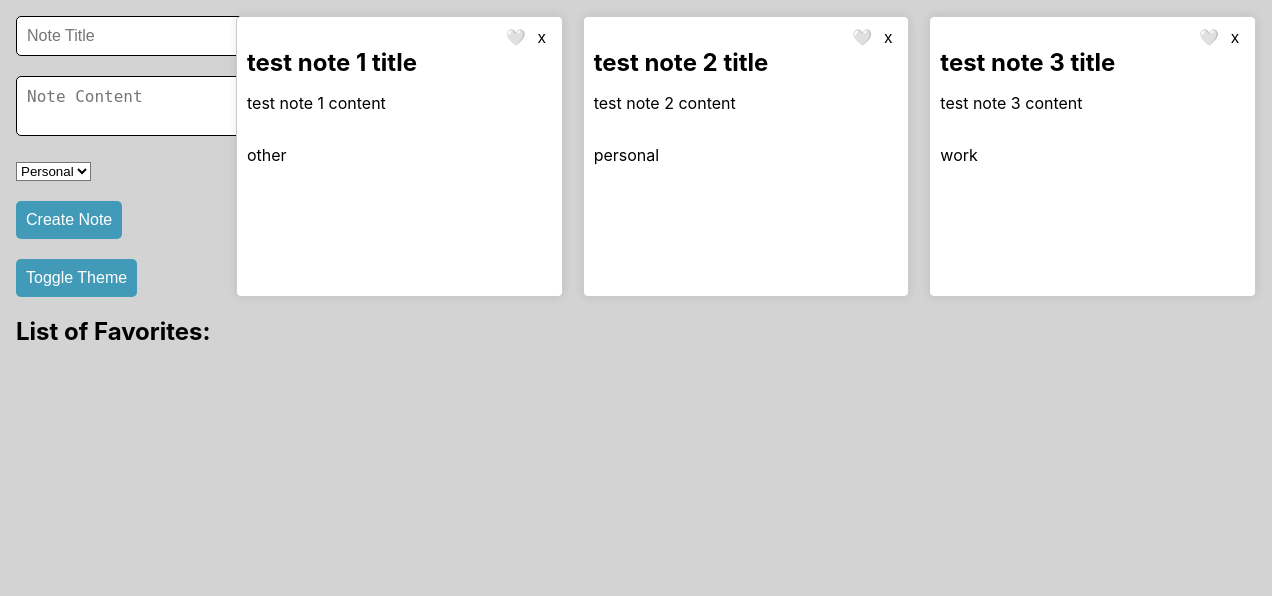
Test: Create and Read StickyNote › creates a new note
Type "New Note" into the field with placeholder "Note Title" at (130, 36), box [16,16,245,56]
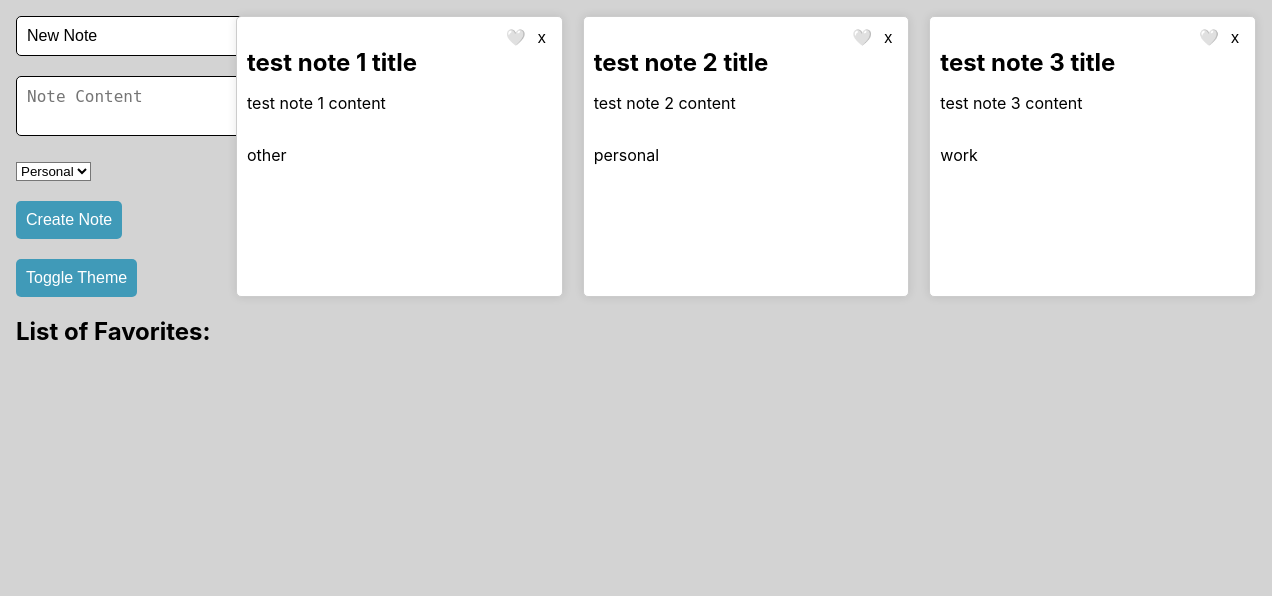
Type "Note content" into the text box with placeholder "Note Content" at (134, 106), box [16,76,253,136]
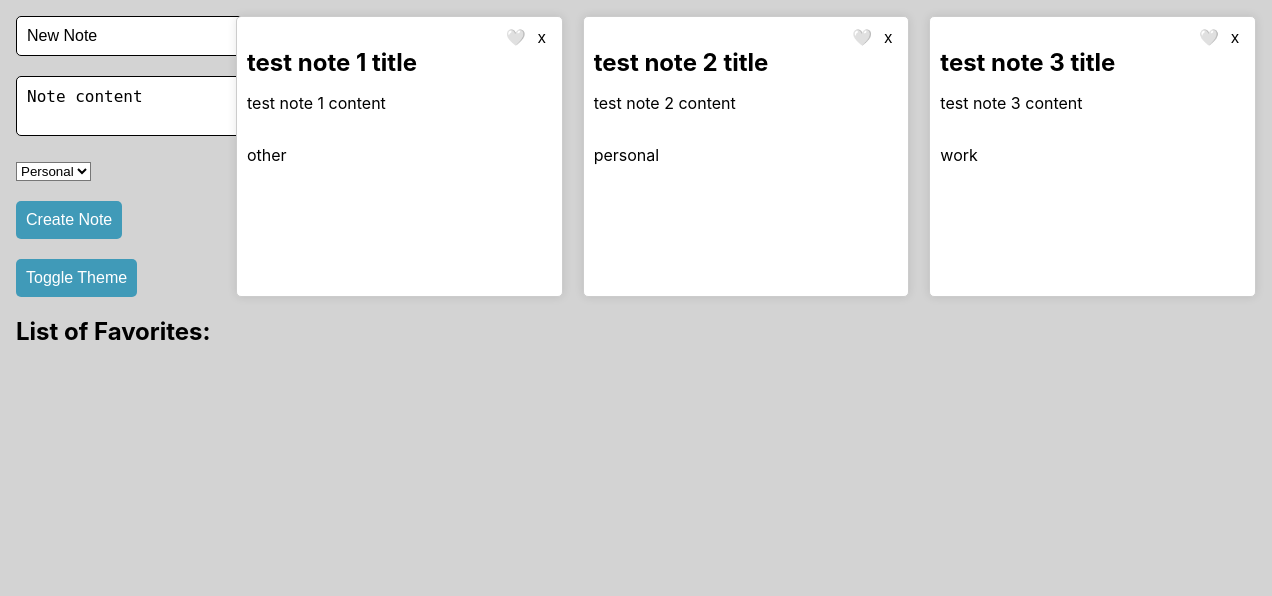
Click the button "Create Note" at (69, 220), box [16,201,122,239]
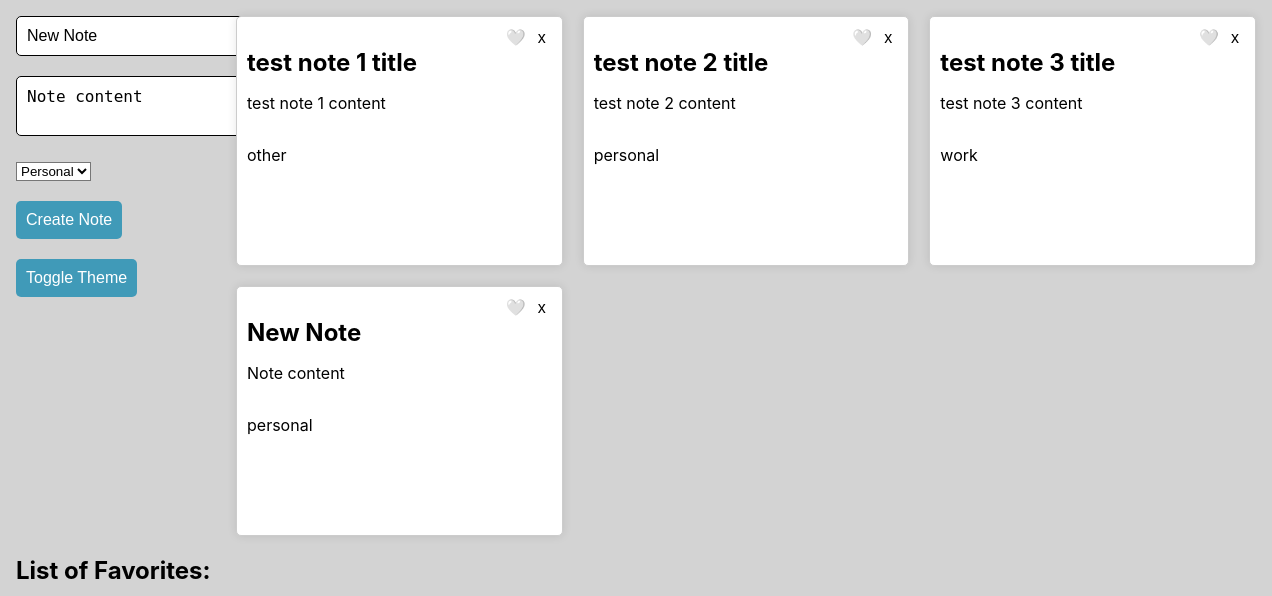
Expected: the heading "New Note" is shown, [247,318,361,347]
Expected: the text box "Note content" is shown, [247,363,345,383]
